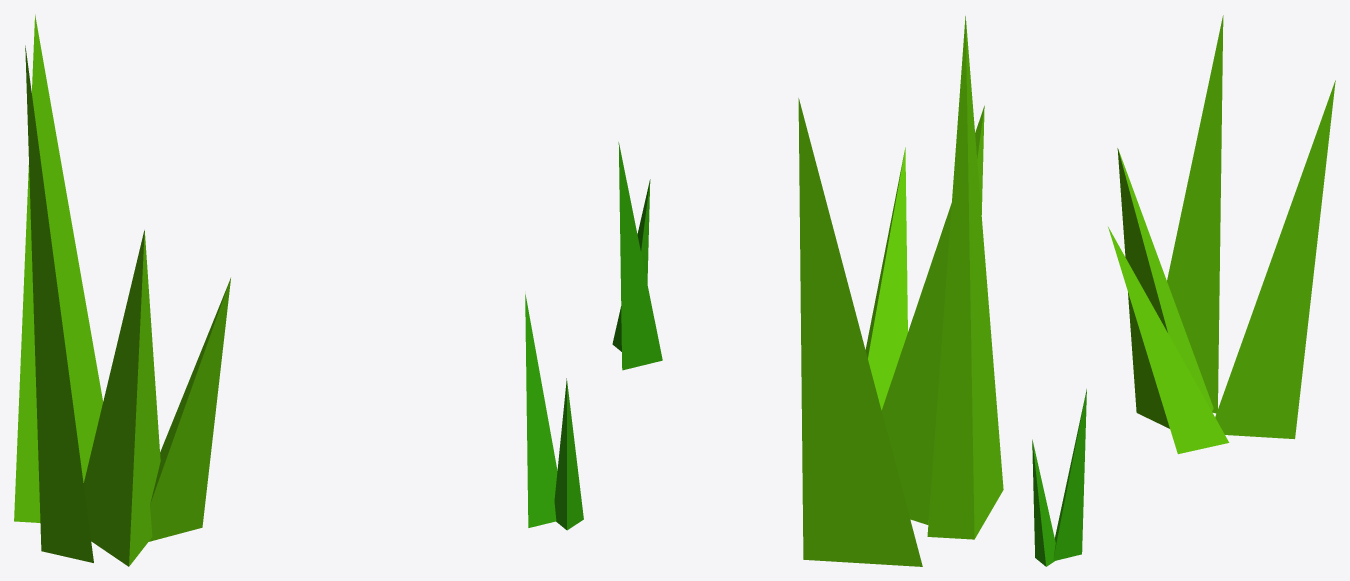
The model's file is cim.fbx.
3 views of the same model, side by side, from view 1: azimuth 30°, elevation 25°; view 2: azimuth 150°, elevation 25°; view 3: azimuth 270°, elevation 25° (orthographic). The views are drawn at different scales.
Parts seen in each view (by area): view 1: Cone.003, Cone; view 2: Cone.003, Cone; view 3: Cone.003, Cone.
Part boxes in pixels (box(x1,y1,x2,y2)): Cone.003: box(14, 14, 230, 566); Cone: box(525, 294, 583, 530); Cone.003: box(798, 16, 1003, 566); Cone: box(612, 142, 662, 370); Cone.003: box(1108, 15, 1335, 454); Cone: box(1032, 389, 1086, 566).
Size of the model in its own units: 204 by 220 by 157.
